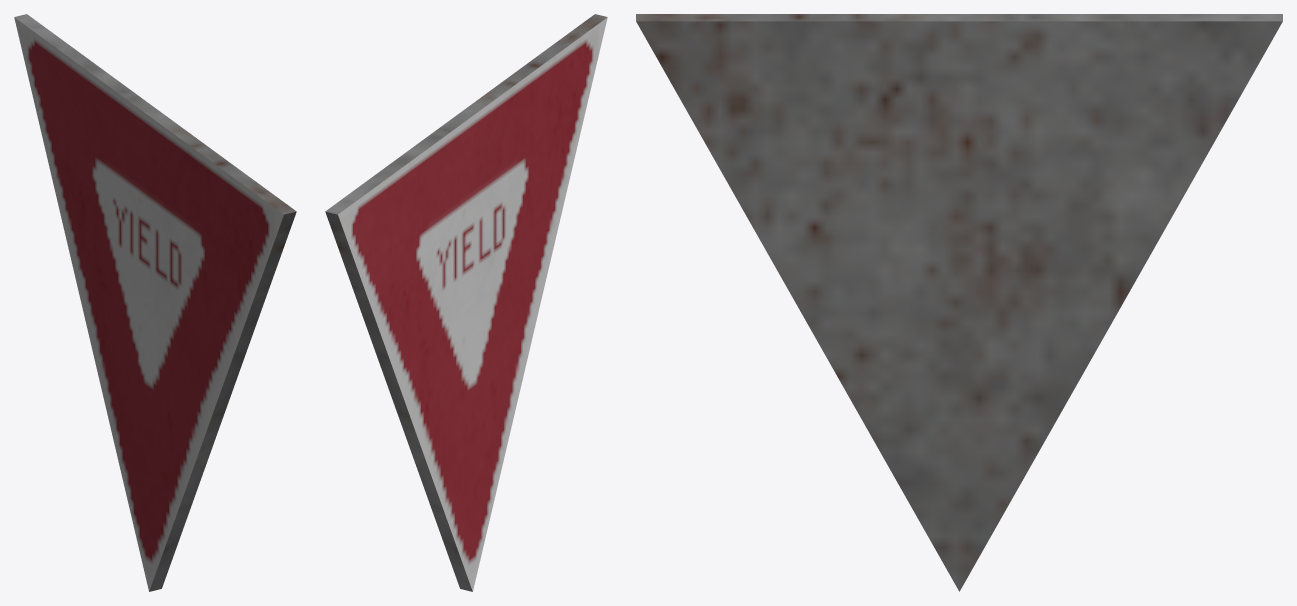
File: Sign_Yield_Plate.obj
3 views of the same model, side by side, from view 1: azimuth 30°, elevation 25°; view 2: azimuth 150°, elevation 25°; view 3: azimuth 270°, elevation 25° (orthographic). The views are drawn at different scales.
Visible parts, largest first — view 1: Sign_Yield_Plate; view 2: Sign_Yield_Plate; view 3: Sign_Yield_Plate.
Boxes of the visible parts, x1=… form: Sign_Yield_Plate: x1=14, y1=14, x2=296, y2=591; Sign_Yield_Plate: x1=325, y1=14, x2=607, y2=591; Sign_Yield_Plate: x1=636, y1=14, x2=1282, y2=591.
Size of the model in its own units: 0.0152 by 0.5425 by 0.5574.
